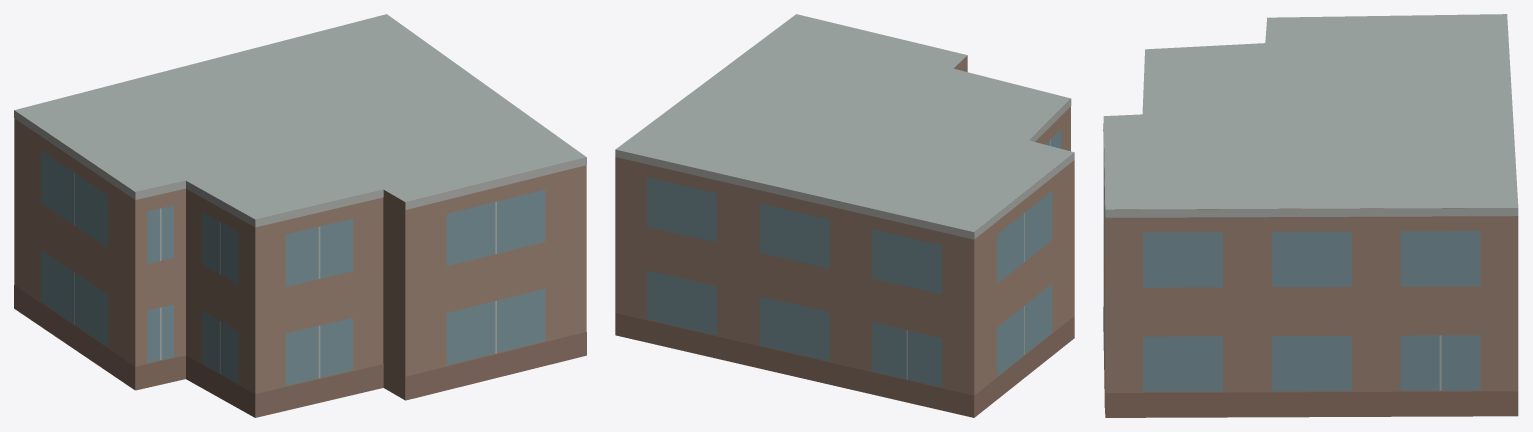
File: survey-upis-32688942.glb
The picture shows the model from 3 angles, left to right: view 1: azimuth 30°, elevation 25°; view 2: azimuth 150°, elevation 25°; view 3: azimuth 270°, elevation 25°; orthographic projection. The views are drawn at different scales.
Parts seen in each view (by area): view 1: survey-upis-32688942.tmp; view 2: survey-upis-32688942.tmp; view 3: survey-upis-32688942.tmp.
Part boxes in pixels (left/top/right/bottom): survey-upis-32688942.tmp: left=14, top=14, right=586, bottom=417; survey-upis-32688942.tmp: left=615, top=14, right=1074, bottom=417; survey-upis-32688942.tmp: left=1103, top=14, right=1518, bottom=417.
Size of the model in its own units: 12.28 by 6.1 by 11.02.
